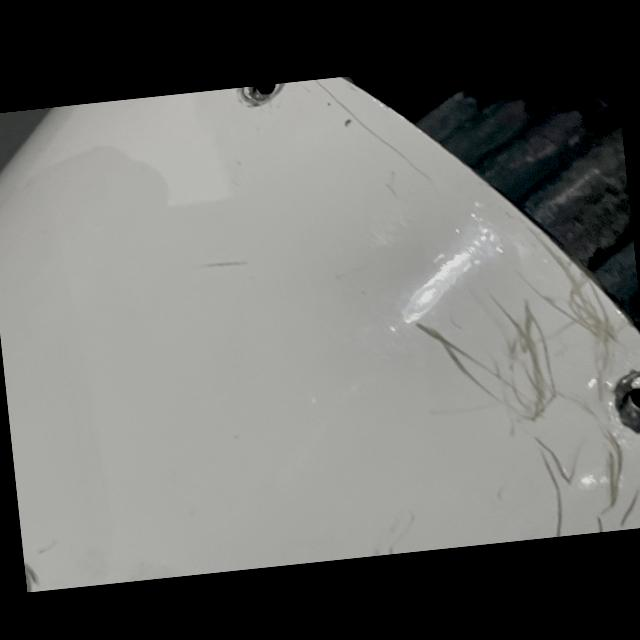Missing Fastener: (603, 367, 640, 440), (223, 82, 294, 108)
